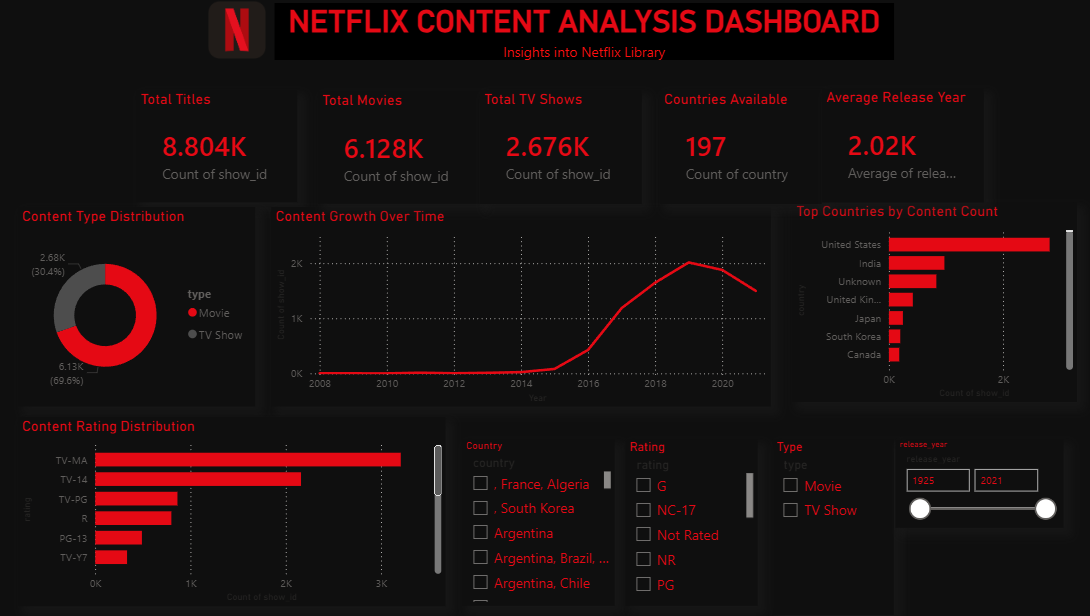

Layout of this report page (visuals, bound fields, positions):
{"tool":"powerbi","page":{"name":"Netflix Overview","canvas":[1280,720],"ordinal":0},"visuals":[{"type":"cardVisual","title":"Total Titles","fields":{"Data":["CountNonNull(netflix_cleaned.show_id)"]},"box":[159.6,105.3,187.7,131.6],"z":0},{"type":"cardVisual","title":"Total Movies","fields":{"Data":["CountNonNull(netflix_cleaned.show_id)"]},"box":[345.2,270.4,182.9,132],"z":4000},{"type":"donutChart","title":"Content Type Distribution","fields":{"Category":["netflix_cleaned.type"],"Y":["CountNonNull(netflix_cleaned.show_id)"]},"box":[21.1,242.1,277.2,233.3],"z":5000},{"type":"lineChart","title":"Content Growth Over Time","fields":{"Category":["netflix_cleaned.date_added.Variation.Date Hierarchy.Year","netflix_cleaned.date_added.Variation.Date Hierarchy.Quarter","netflix_cleaned.date_added.Variation.Date Hierarchy.Month","netflix_cleaned.date_added.Variation.Date Hierarchy.Day"],"Y":["CountNonNull(netflix_cleaned.show_id)"]},"box":[317.5,242.1,584.2,233.3],"z":6000},{"type":"clusteredBarChart","title":"Top Countries by Content Count","fields":{"Category":["netflix_cleaned.country"],"Y":["CountNonNull(netflix_cleaned.show_id)"]},"box":[926.3,236.8,333.3,233.3],"z":7000},{"type":"barChart","title":"Content Rating Distribution","fields":{"Category":["netflix_cleaned.rating"],"Y":["CountNonNull(netflix_cleaned.show_id)"]},"box":[21.1,487.7,500,221.1],"z":8000},{"type":"slicer","title":"Type","fields":{"Values":["netflix_cleaned.type"]},"box":[903.5,514,142.1,205.3],"z":9000},{"type":"slicer","title":"Country","fields":{"Values":["netflix_cleaned.country"]},"box":[540.4,514,178.9,194.7],"z":10000},{"type":"slicer","title":"Rating","fields":{"Values":["netflix_cleaned.rating"]},"box":[731.6,514,154.4,194.7],"z":11000},{"type":"slicer","title":"release_year","fields":{"Values":["netflix_cleaned.release_year"]},"box":[1047.4,514,196.5,103.5],"z":12000},{"type":"textbox","title":"NETFLIX CONTENT ANALYSIS DASHBOARD","box":[321.1,3.5,724.6,66.7],"z":13000},{"type":"image","box":[236.8,0,80.7,70.2],"z":14000},{"type":"cardVisual","title":"Total Movies","fields":{"Data":["CountNonNull(netflix_cleaned.show_id)"]},"box":[371.9,107,189.5,131.6],"z":14001},{"type":"cardVisual","title":"Total TV Shows","fields":{"Data":["CountNonNull(netflix_cleaned.show_id)"]},"box":[561.4,105.3,189.5,133.3],"z":14002},{"type":"cardVisual","title":"Countries Available","fields":{"Data":["Count(netflix_cleaned.country)"]},"box":[771.9,105.3,189.5,133.3],"z":14003},{"type":"cardVisual","title":"Average Release Year","fields":{"Data":["Avg(netflix_cleaned.release_year)"]},"box":[961.4,103.5,189.5,133.3],"z":14004}]}

Visuals, with their boxes in screenshot pixels (x1, y1, x2, y2), scaled from the page's 1280x720 canvas onto the 1090x616 screenshot:
"Total Titles" cardVisual: <box>136,90,296,203</box>
"Total Movies" cardVisual: <box>294,231,450,344</box>
"Content Type Distribution" donutChart: <box>18,207,254,407</box>
"Content Growth Over Time" lineChart: <box>270,207,768,407</box>
"Top Countries by Content Count" clusteredBarChart: <box>789,203,1073,402</box>
"Content Rating Distribution" barChart: <box>18,417,444,606</box>
"Type" slicer: <box>769,440,890,615</box>
"Country" slicer: <box>460,440,613,606</box>
"Rating" slicer: <box>623,440,754,606</box>
"release_year" slicer: <box>892,440,1059,528</box>
"NETFLIX CONTENT ANALYSIS DASHBOARD" textbox: <box>273,3,890,60</box>
image: <box>202,0,270,60</box>
"Total Movies" cardVisual: <box>317,92,478,204</box>
"Total TV Shows" cardVisual: <box>478,90,639,204</box>
"Countries Available" cardVisual: <box>657,90,819,204</box>
"Average Release Year" cardVisual: <box>819,89,980,203</box>
